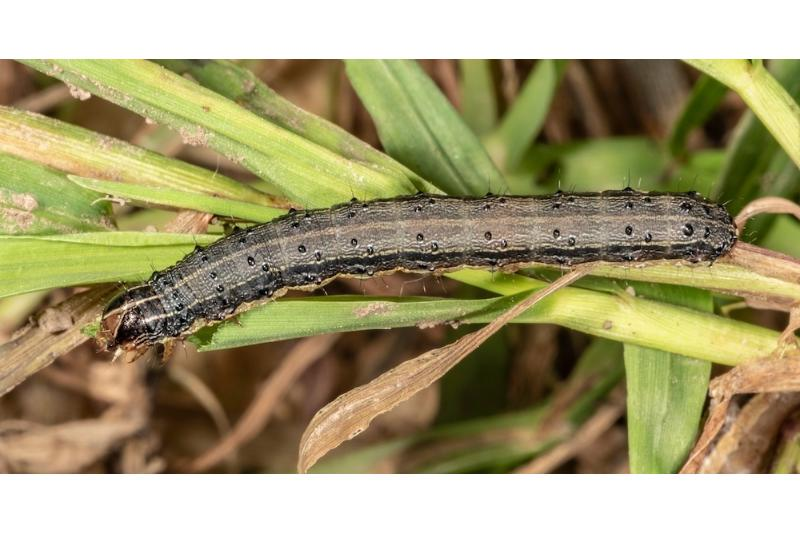fall-armyworm: (92, 190, 741, 365)
